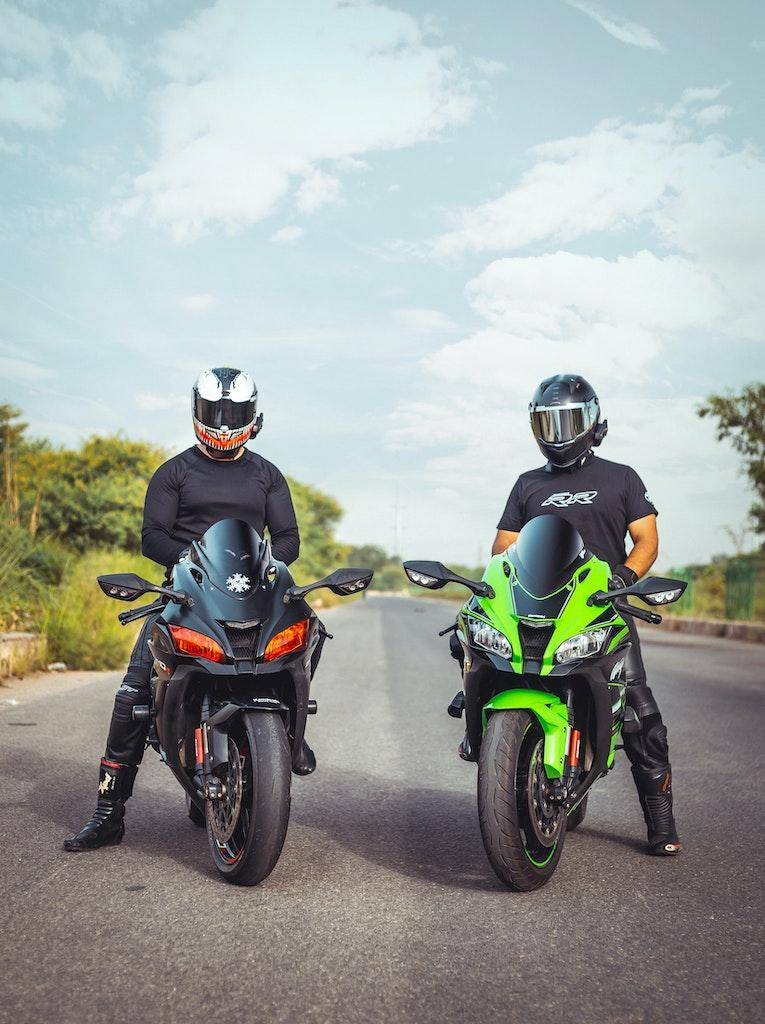helmet: (527, 373, 609, 469), (190, 365, 265, 460)
